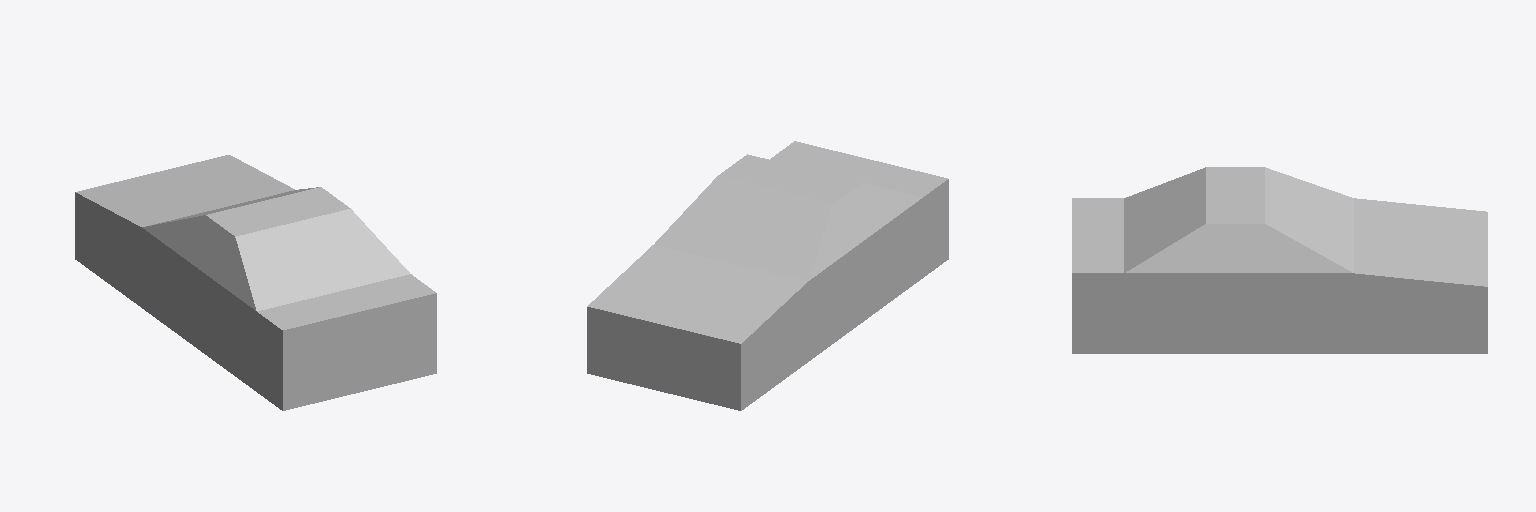
The model's file is player_car.obj.
3 views of the same model, side by side, from view 1: azimuth 30°, elevation 25°; view 2: azimuth 150°, elevation 25°; view 3: azimuth 270°, elevation 25° (orthographic).
Parts seen in each view (by area): view 1: Plane; view 2: Plane; view 3: Plane.
Part boxes in pixels (bbox=[...]): Plane: bbox=[75, 155, 436, 410]; Plane: bbox=[587, 141, 948, 410]; Plane: bbox=[1072, 167, 1487, 353].
Bounding box in the file's own units: 12 × 9 × 28.